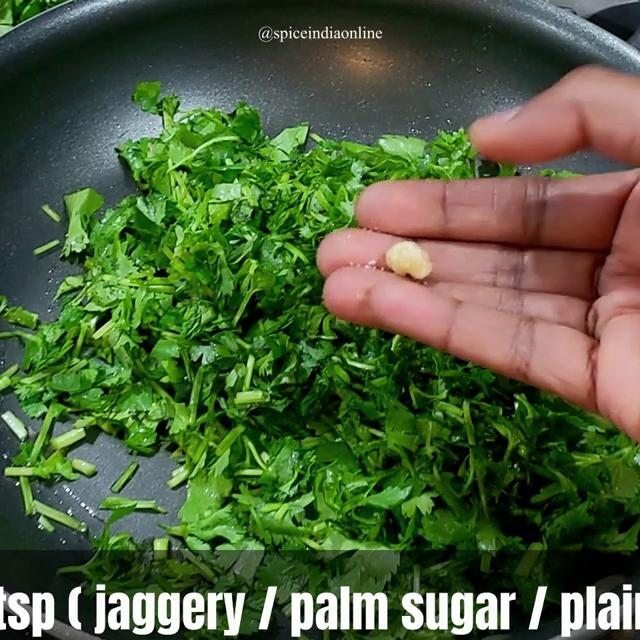cilantro: (108, 139, 314, 533)
